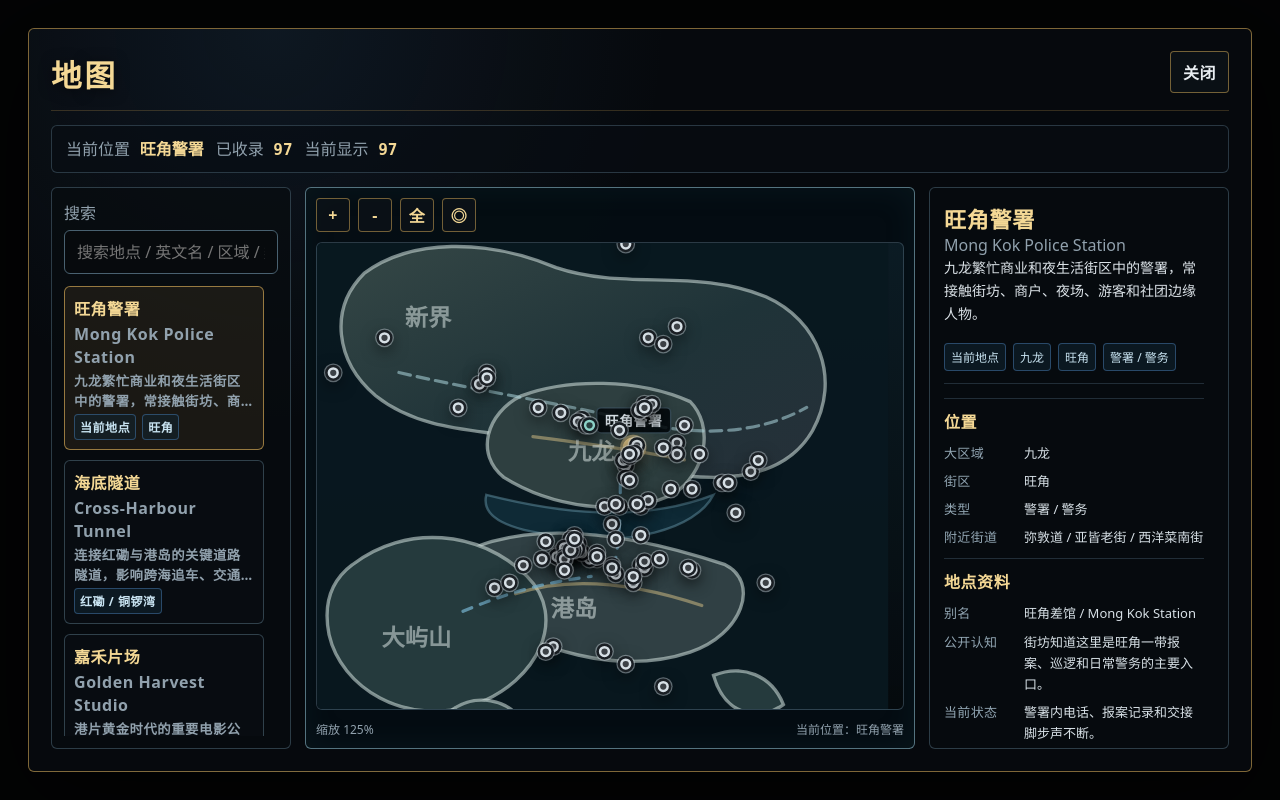
Scenario: MapArchiveModal › renders canonical and runtime places without exposing the whole map as prompt context
Expected: the dialog "地图" shows "旺角警署", [140,140,204,159]
Expected: the dialog "地图" shows "当前地点", [64,286,264,450]
Type "后巷" into the field with placeholder "搜索地点 / 英文名 / 区域 / 类型".
click(171, 252); type("后巷")  # box [64,230,278,274]
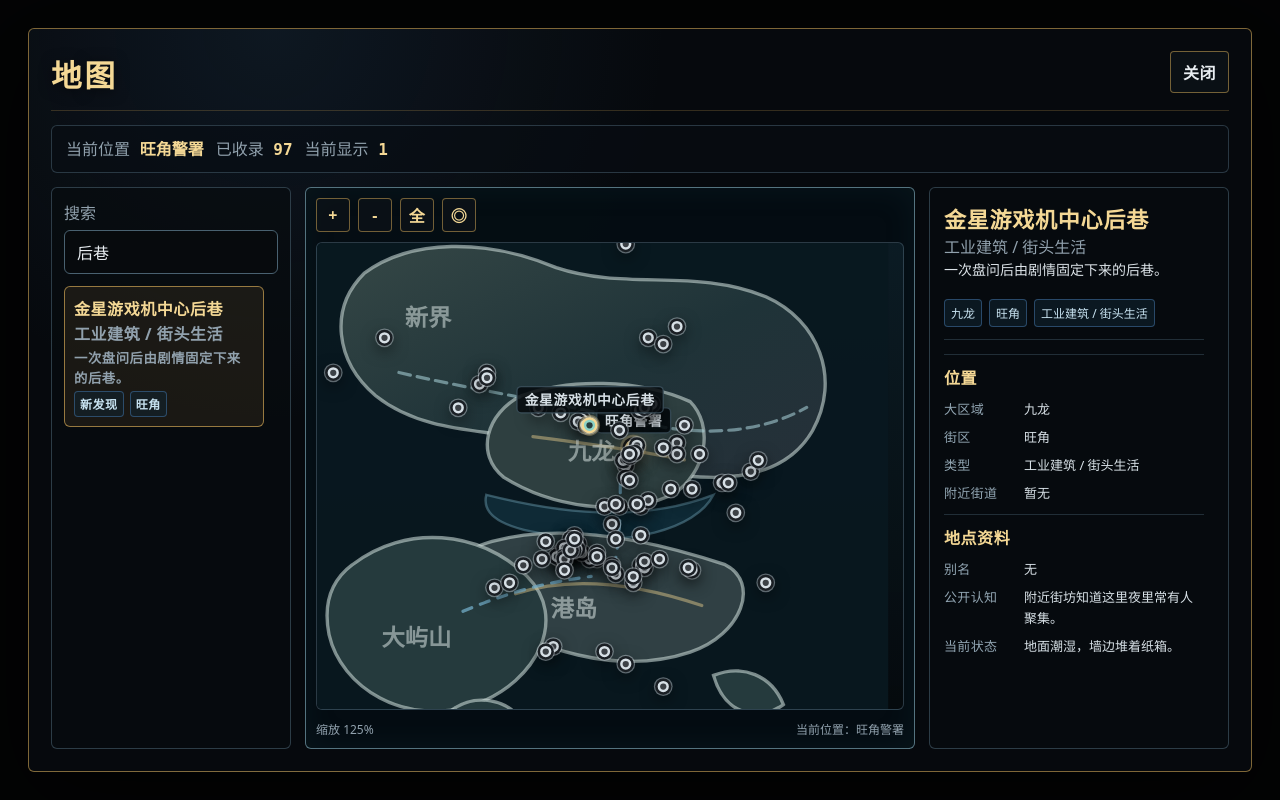
Now the button "金星游戏机中心后巷 工业建筑 / 街头生活 一次盘问后由剧情固定下来的后巷。 新发现 旺角" is shown, box [64,286,264,427]
Now the element named "地点详情" shows "工业建筑", box [944,236,1086,258]
Now the element named "地点详情" shows "街头生活", box [944,236,1086,258]
